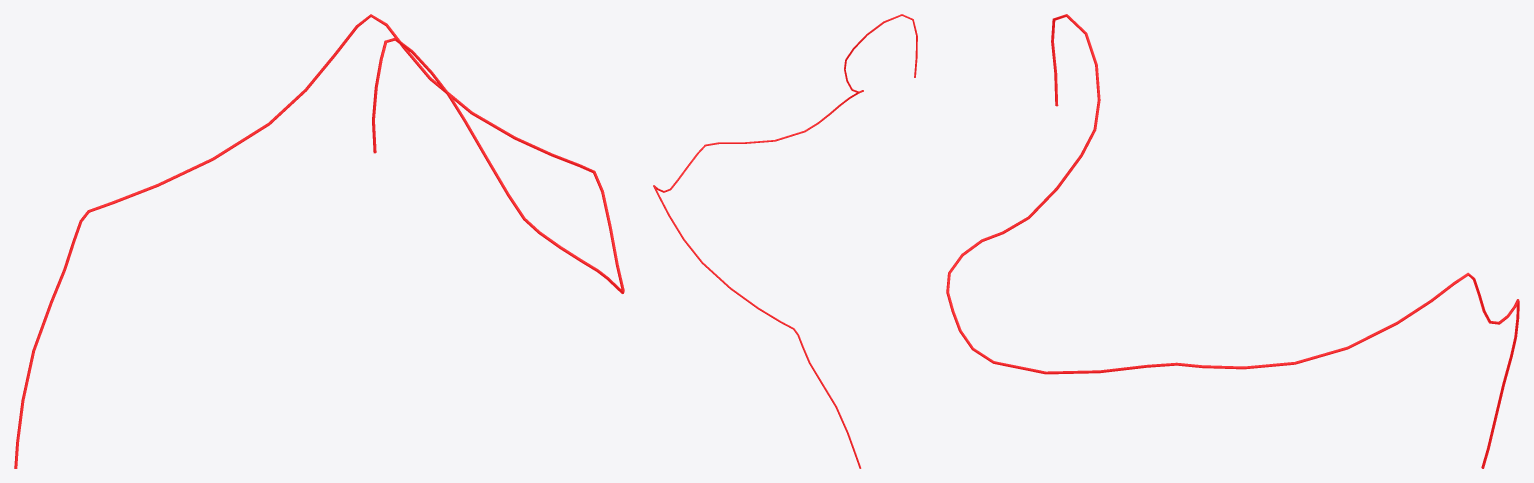
File: m_Rope02.fbx
The picture shows the model from 3 angles, left to right: view 1: azimuth 30°, elevation 25°; view 2: azimuth 150°, elevation 25°; view 3: azimuth 270°, elevation 25°; orthographic projection. The views are drawn at different scales.
Visible parts, largest first — view 1: m_Rope02; view 2: m_Rope02; view 3: m_Rope02.
Boxes of the visible parts, left/top/right/bottom form: m_Rope02: left=14, top=14, right=624, bottom=468; m_Rope02: left=653, top=14, right=917, bottom=468; m_Rope02: left=946, top=14, right=1519, bottom=468.
Bounding box in the file's own units: 945 × 1189 × 1179.
